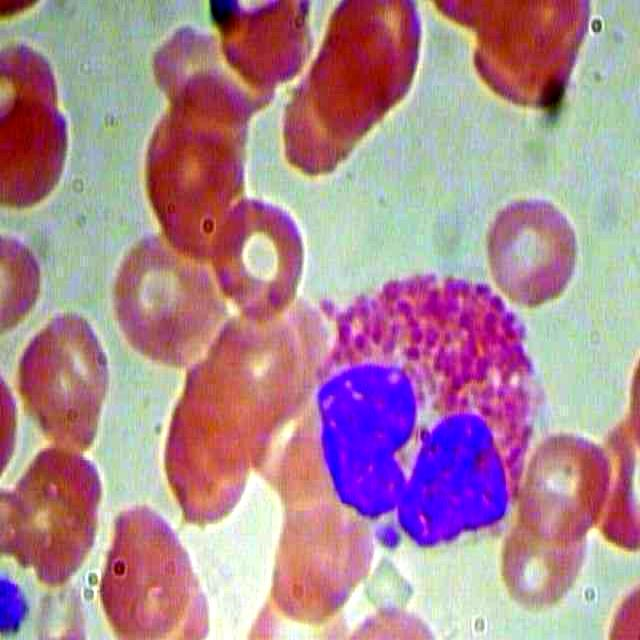RBC: (1, 436, 117, 587), (3, 439, 119, 589), (109, 228, 225, 364), (475, 194, 583, 314), (207, 198, 315, 318), (12, 310, 120, 430), (492, 486, 600, 606), (515, 424, 623, 544)
WBC: (309, 265, 551, 556)
